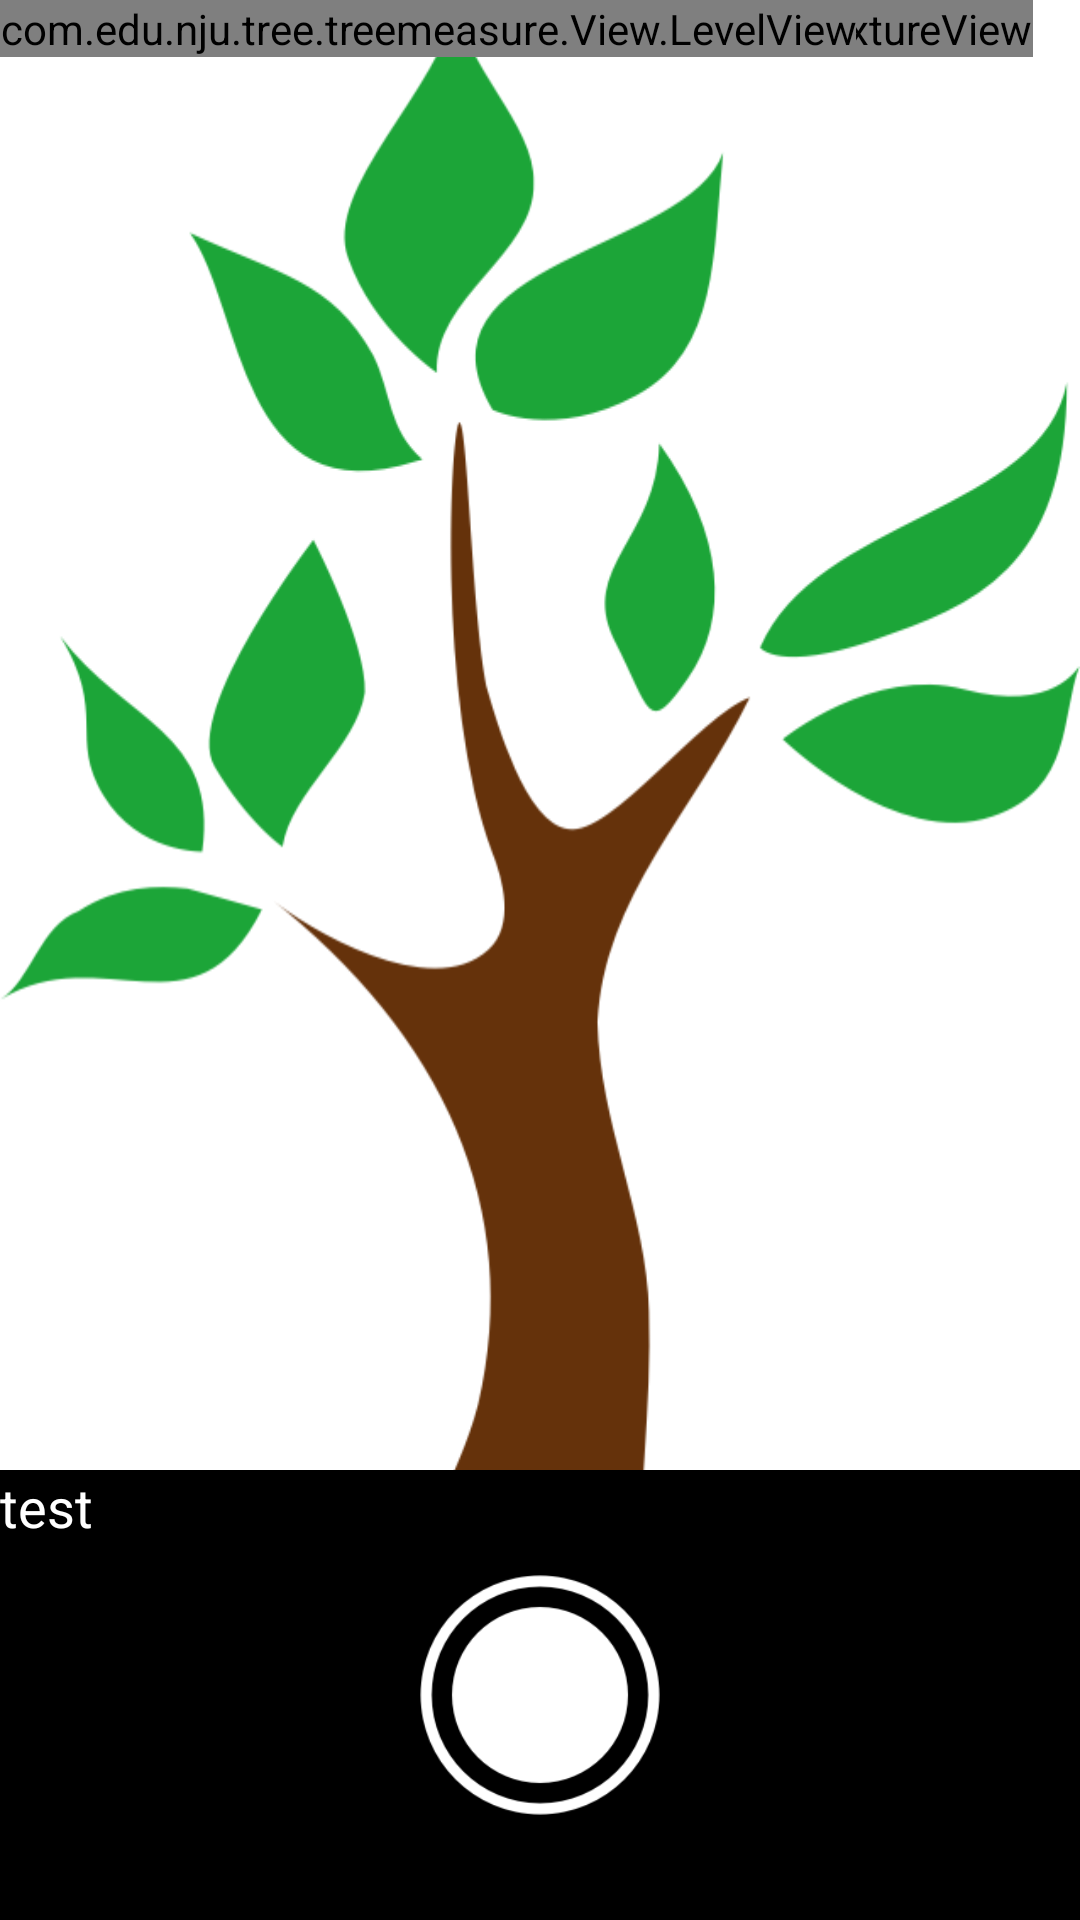

Point at icon controls on the screen. Image size 1080 × 1920, points as [x,y].
camera: [540,1695]
